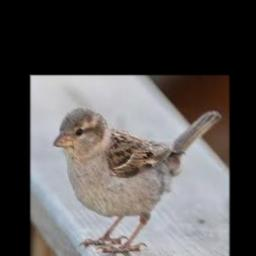Sparrow: (53, 107, 222, 252)
